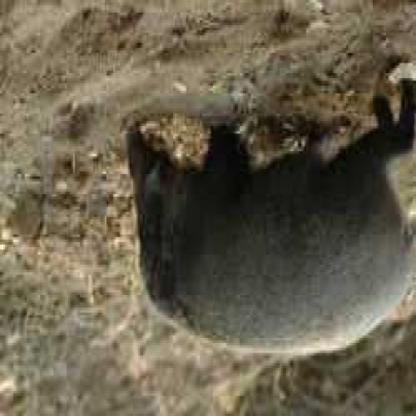boar: (120, 94, 415, 346)
